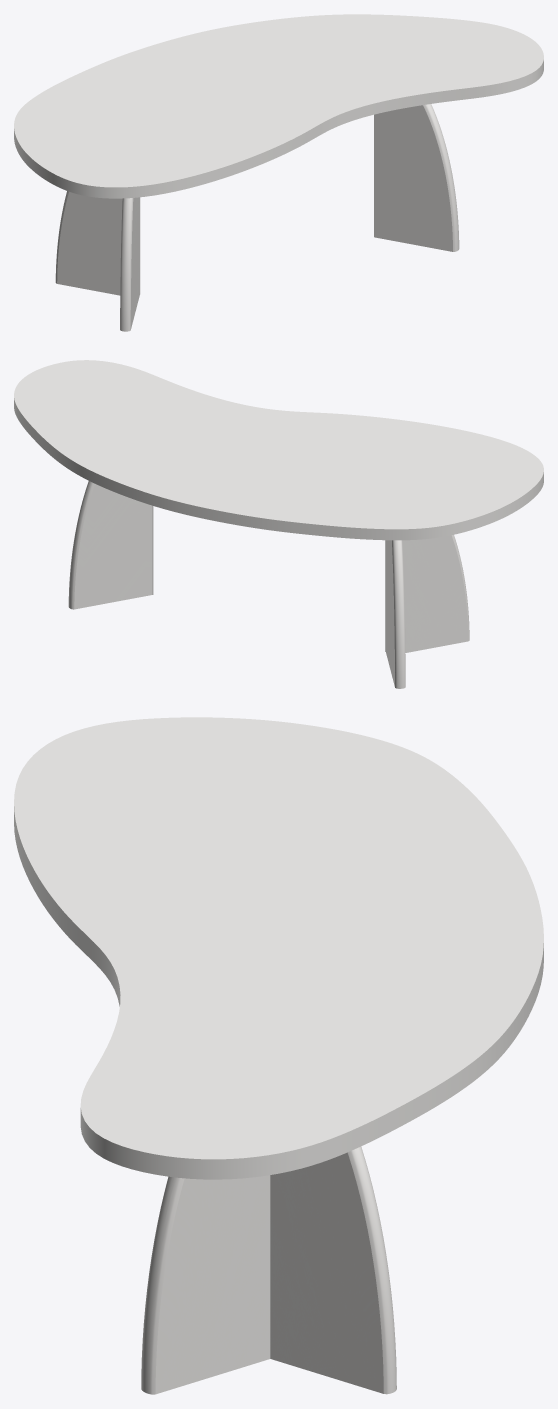
Rendered from purewhite_leaf1_standard_newtable2.glb.
The picture shows the model from 3 angles, top to bottom: view 1: azimuth 30°, elevation 25°; view 2: azimuth 150°, elevation 25°; view 3: azimuth 270°, elevation 25°; orthographic projection. The views are drawn at different scales.
Visible parts, largest first — view 1: standard_leaf1, newtable2_singleright2, newtable2_singleleft1, newtable2_singleright1; view 2: standard_leaf1, newtable2_singleleft2, newtable2_singleright1, newtable2_singleleft1; view 3: standard_leaf1, newtable2_singleleft2, newtable2_singleright2.
Boxes of the visible parts, x1,y1,x2,y2 form: standard_leaf1: (14,14,543,198); newtable2_singleright2: (374,104,459,251); newtable2_singleleft1: (55,191,140,295); newtable2_singleright1: (120,197,139,331); standard_leaf1: (14,360,543,540); newtable2_singleleft2: (68,481,152,609); newtable2_singleright1: (385,535,469,652); newtable2_singleleft1: (386,540,405,688); standard_leaf1: (14,717,543,1179); newtable2_singleleft2: (270,1146,396,1394); newtable2_singleright2: (141,1175,270,1394).
Bounding box in the file's own units: 7.5 × 2.5 × 3.8.
Materials: 1 (1 with a texture image).
